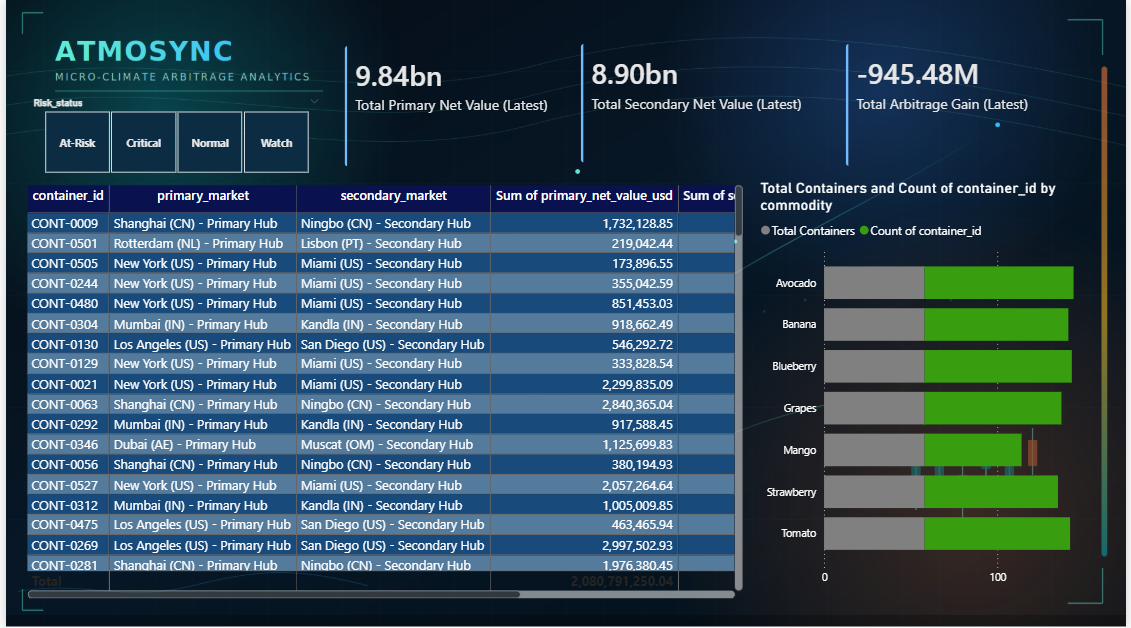

What the dashboard file says about the page in this screenshot:
{"tool":"powerbi","page":{"name":"Financial / Arbitrage Analysis","canvas":[1280,720],"ordinal":3},"visuals":[{"type":"group","id":"g1","title":"Group 1","box":[18.6,27.6,1232,662.4],"z":0},{"type":"cardVisual","fields":{"Data":["cleaned_dataset.Total Primary Net Value (Latest)"]},"box":[369.8,33.7,280.2,174.4],"z":0,"group":"g1"},{"type":"cardVisual","fields":{"Data":["cleaned_dataset.Total Secondary Net Value (Latest)"]},"box":[639.6,34.9,300,170.9],"z":1000,"group":"g1"},{"type":"lineChart","fields":{"Y":["cleaned_dataset.Total Primary Net Value"],"Category":["cleaned_dataset.commodity"]},"box":[387.3,126.5,262,62.1],"z":1000},{"type":"cardVisual","fields":{"Data":["cleaned_dataset.Total Arbitrage Gain (Latest)"]},"box":[943.1,33.7,300,174.4],"z":2000,"group":"g1"},{"type":"lineChart","fields":{"Category":["cleaned_dataset.commodity"],"Y":["cleaned_dataset.Total secondary Net Value"]},"box":[659.4,126.5,280,62.1],"z":2000},{"type":"lineChart","fields":{"Category":["cleaned_dataset.commodity"],"Y":["cleaned_dataset.Total Arbitrage Gain (Latest)"]},"box":[963.2,126.5,280,62.1],"z":3000},{"type":"tableEx","fields":{"Values":["cleaned_dataset.container_id","cleaned_dataset.primary_market","cleaned_dataset.secondary_market","Sum(cleaned_dataset.primary_net_value_usd)","Sum(cleaned_dataset.secondary_net_value_usd)","Sum(cleaned_dataset.arbitrage_gain_usd)"]},"box":[18.6,205.7,828.6,484.3],"z":3000,"group":"g1"},{"type":"barChart","fields":{"Category":["cleaned_dataset.commodity"],"Y":["cleaned_dataset.Containers Favoring Secondary Market","Count(cleaned_dataset.container_id)"]},"box":[857.2,205.7,390,472.9],"z":4000,"group":"g1"},{"type":"slicer","fields":{"Values":["cleaned_dataset.risk_status"]},"box":[18.6,107.2,351.4,98.6],"z":5000,"group":"g1"},{"type":"actionButton","box":[1216.1,27.6,34.5,31],"z":6000,"group":"g1"}]}

Visuals, with their boxes in screenshot pixels (x1, y1, x2, y2), scaled from the page's 1280x720 canvas onto the 1131x628 screenshot:
"Group 1" group: {"x1": 16, "y1": 24, "x2": 1105, "y2": 602}
cardVisual - cleaned_dataset.Total Primary Net Value (Latest): {"x1": 327, "y1": 29, "x2": 574, "y2": 182}
cardVisual - cleaned_dataset.Total Secondary Net Value (Latest): {"x1": 565, "y1": 30, "x2": 830, "y2": 180}
lineChart - cleaned_dataset.Total Primary Net Value x cleaned_dataset.commodity: {"x1": 342, "y1": 110, "x2": 574, "y2": 165}
cardVisual - cleaned_dataset.Total Arbitrage Gain (Latest): {"x1": 833, "y1": 29, "x2": 1098, "y2": 182}
lineChart - cleaned_dataset.commodity x cleaned_dataset.Total secondary Net Value: {"x1": 583, "y1": 110, "x2": 830, "y2": 165}
lineChart - cleaned_dataset.commodity x cleaned_dataset.Total Arbitrage Gain (Latest): {"x1": 851, "y1": 110, "x2": 1098, "y2": 165}
tableEx - cleaned_dataset.container_id x cleaned_dataset.primary_market: {"x1": 16, "y1": 179, "x2": 749, "y2": 602}
barChart - cleaned_dataset.commodity x cleaned_dataset.Containers Favoring Secondary Market: {"x1": 757, "y1": 179, "x2": 1102, "y2": 592}
slicer - cleaned_dataset.risk_status: {"x1": 16, "y1": 94, "x2": 327, "y2": 180}
actionButton: {"x1": 1075, "y1": 24, "x2": 1105, "y2": 51}
